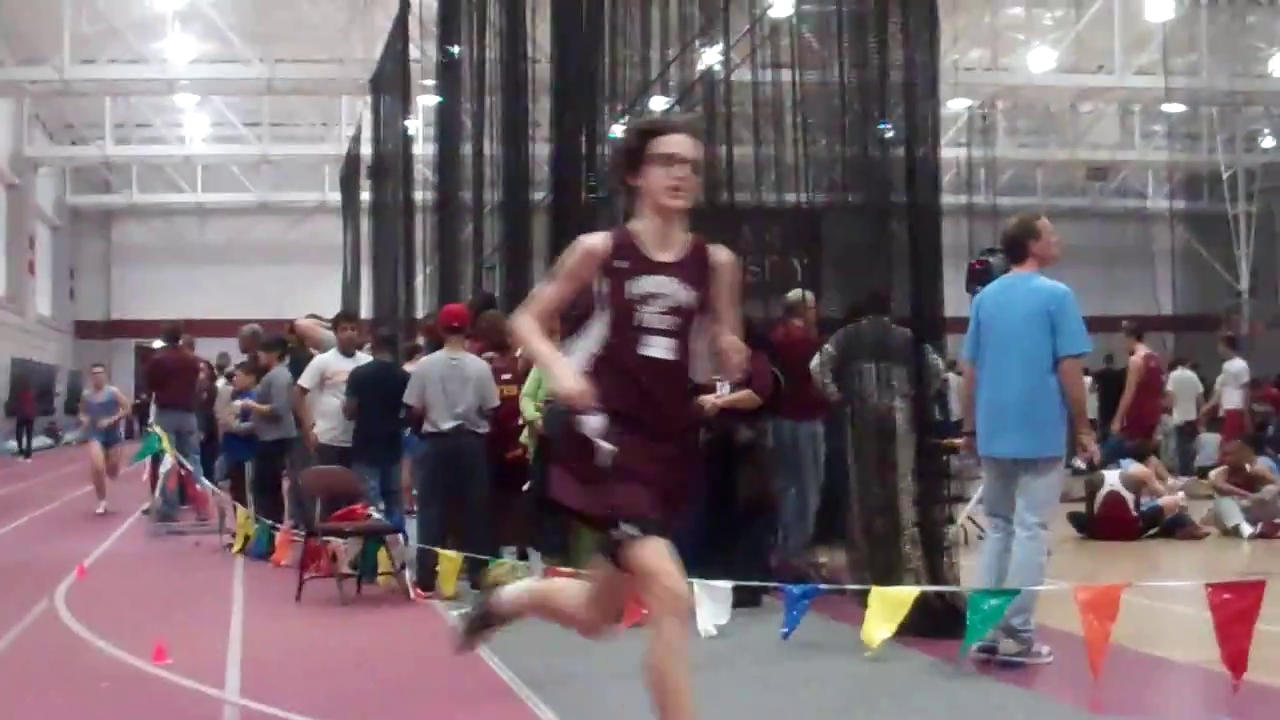person: (453, 120, 748, 719), (959, 213, 1101, 666), (293, 312, 375, 467), (76, 362, 133, 517)
